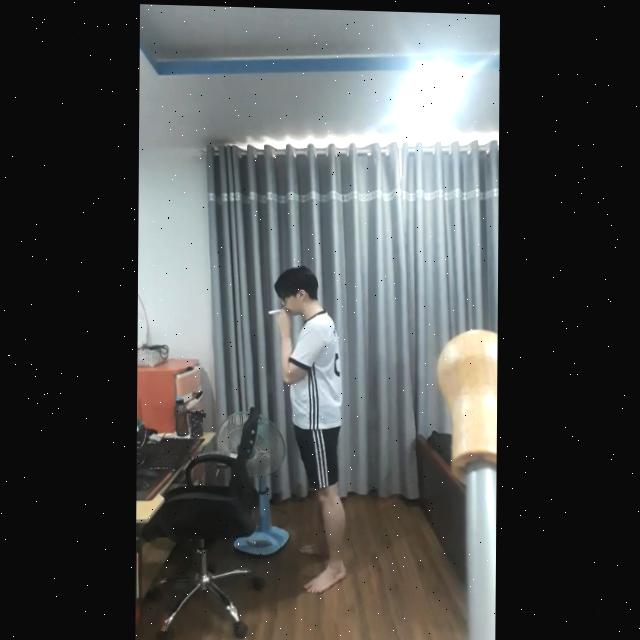cigarette: (269, 306, 285, 313)
